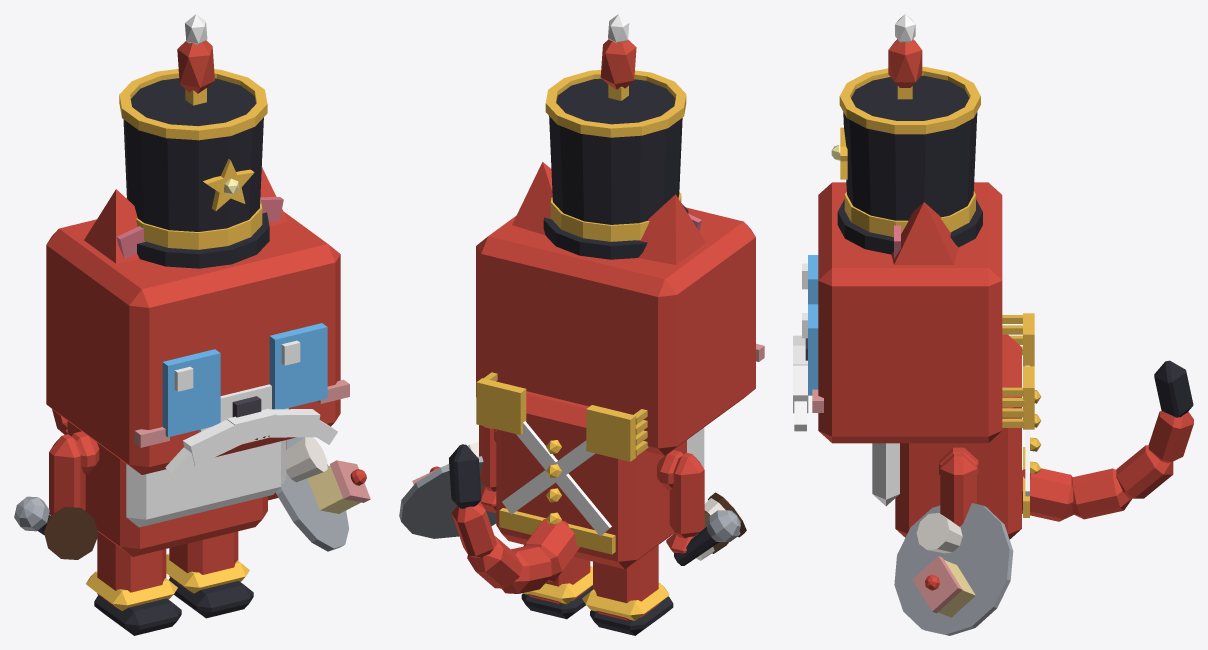
Rendered from CatCafe_Cat_Nutcracker_Work.glb.
3 views of the same model, side by side, from view 1: azimuth 30°, elevation 25°; view 2: azimuth 150°, elevation 25°; view 3: azimuth 270°, elevation 25° (orthographic). The views are drawn at different scales.
Visible parts, largest first — view 1: CatCafe_Cat_Nutcracker_Work_Head, CatCafe_Cat_Nutcracker_Work_Prop, CatCafe_Cat_Nutcracker_Work_Body, CatCafe_Cat_Nutcracker_Work_Held_Waiter, CatCafe_Cat_Nutcracker_Work_LegB2, CatCafe_Cat_Nutcracker_Work_LegB1, CatCafe_Cat_Nutcracker_Work_Eye2, CatCafe_Cat_Nutcracker_Work_Eye1, CatCafe_Cat_Nutcracker_Work_EarR, CatCafe_Cat_Nutcracker_Work_LegF2, CatCafe_Cat_Nutcracker_Work_Held_Barista, CatCafe_Cat_Nutcracker_Work_Badge_Glow (+2 smaller); view 2: CatCafe_Cat_Nutcracker_Work_Head, CatCafe_Cat_Nutcracker_Work_Prop, CatCafe_Cat_Nutcracker_Work_Body, CatCafe_Cat_Nutcracker_Work_Prop2, CatCafe_Cat_Nutcracker_Work_Tail, CatCafe_Cat_Nutcracker_Work_LegB2, CatCafe_Cat_Nutcracker_Work_Held_Waiter, CatCafe_Cat_Nutcracker_Work_LegF2, CatCafe_Cat_Nutcracker_Work_EarR, CatCafe_Cat_Nutcracker_Work_LegB1, CatCafe_Cat_Nutcracker_Work_EarL, CatCafe_Cat_Nutcracker_Work_Held_Entertainer (+2 smaller); view 3: CatCafe_Cat_Nutcracker_Work_Head, CatCafe_Cat_Nutcracker_Work_Prop, CatCafe_Cat_Nutcracker_Work_Held_Waiter, CatCafe_Cat_Nutcracker_Work_Body, CatCafe_Cat_Nutcracker_Work_Tail, CatCafe_Cat_Nutcracker_Work_Prop2, CatCafe_Cat_Nutcracker_Work_EarL, CatCafe_Cat_Nutcracker_Work_LegF1, CatCafe_Cat_Nutcracker_Work_Eye1, CatCafe_Cat_Nutcracker_Work_Eye2.
Part boxes in pixels (box(x1,y1,x2,y2)): CatCafe_Cat_Nutcracker_Work_Head: box(46, 212, 349, 474); CatCafe_Cat_Nutcracker_Work_Prop: box(119, 14, 337, 481); CatCafe_Cat_Nutcracker_Work_Body: box(67, 421, 286, 556); CatCafe_Cat_Nutcracker_Work_Held_Waiter: box(276, 437, 370, 551); CatCafe_Cat_Nutcracker_Work_LegB2: box(86, 531, 181, 635); CatCafe_Cat_Nutcracker_Work_LegB1: box(166, 531, 253, 618); CatCafe_Cat_Nutcracker_Work_Eye2: box(162, 349, 220, 437); CatCafe_Cat_Nutcracker_Work_Eye1: box(269, 323, 327, 409); CatCafe_Cat_Nutcracker_Work_EarR: box(84, 189, 145, 263); CatCafe_Cat_Nutcracker_Work_LegF2: box(49, 434, 85, 514); CatCafe_Cat_Nutcracker_Work_Held_Barista: box(44, 507, 98, 559); CatCafe_Cat_Nutcracker_Work_Badge_Glow: box(203, 159, 254, 211); CatCafe_Cat_Nutcracker_Work_Head: box(476, 207, 764, 455); CatCafe_Cat_Nutcracker_Work_Prop: box(543, 14, 688, 259); CatCafe_Cat_Nutcracker_Work_Body: box(494, 391, 704, 569); CatCafe_Cat_Nutcracker_Work_Prop2: box(476, 372, 648, 554); CatCafe_Cat_Nutcracker_Work_Tail: box(449, 444, 579, 593); CatCafe_Cat_Nutcracker_Work_LegB2: box(582, 545, 673, 635); CatCafe_Cat_Nutcracker_Work_Held_Waiter: box(399, 442, 496, 538); CatCafe_Cat_Nutcracker_Work_LegF2: box(666, 452, 704, 553); CatCafe_Cat_Nutcracker_Work_EarR: box(637, 194, 705, 264); CatCafe_Cat_Nutcracker_Work_LegB1: box(521, 557, 592, 619); CatCafe_Cat_Nutcracker_Work_EarL: box(512, 162, 552, 235); CatCafe_Cat_Nutcracker_Work_Held_Entertainer: box(674, 510, 740, 565); CatCafe_Cat_Nutcracker_Work_Head: box(805, 182, 1002, 443); CatCafe_Cat_Nutcracker_Work_Prop: box(793, 14, 982, 431); CatCafe_Cat_Nutcracker_Work_Held_Waiter: box(894, 503, 1013, 635); CatCafe_Cat_Nutcracker_Work_Body: box(872, 334, 1021, 539); CatCafe_Cat_Nutcracker_Work_Tail: box(1022, 360, 1193, 521); CatCafe_Cat_Nutcracker_Work_Prop2: box(1002, 313, 1041, 517); CatCafe_Cat_Nutcracker_Work_EarL: box(891, 202, 958, 264); CatCafe_Cat_Nutcracker_Work_LegF1: box(940, 453, 976, 526); CatCafe_Cat_Nutcracker_Work_Eye1: box(802, 304, 818, 395); CatCafe_Cat_Nutcracker_Work_Eye2: box(802, 255, 818, 304).
Bounding box in the file's own units: 1.53 × 2.63 × 1.65.
1 material, 1 textured.
